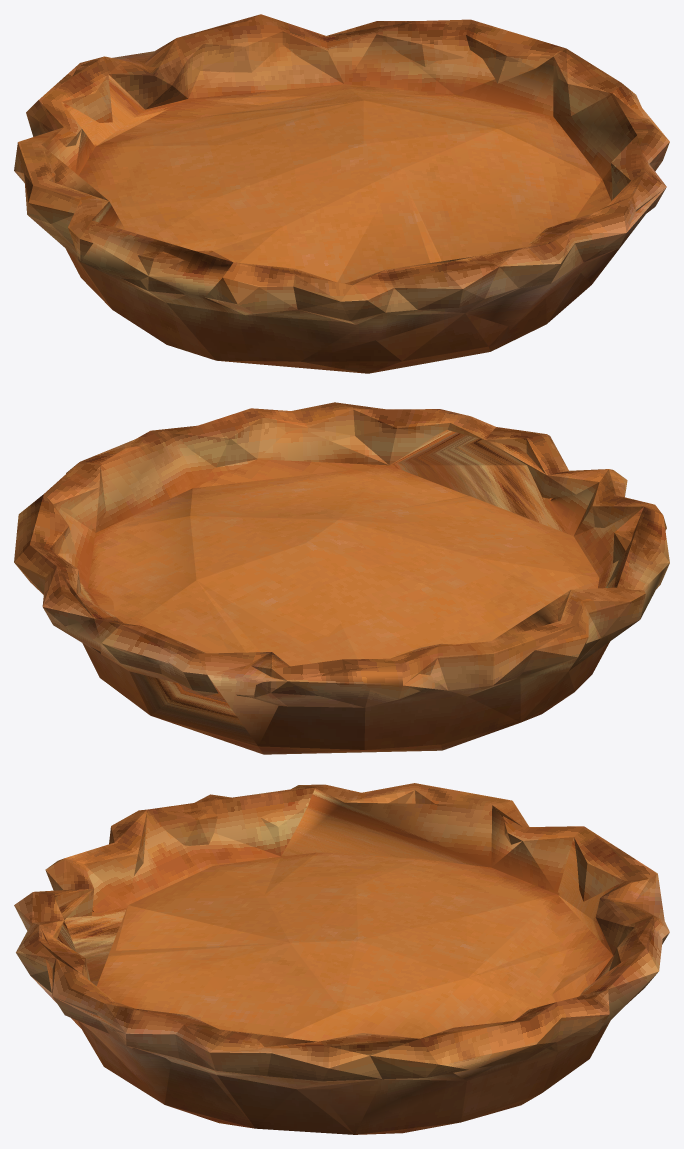
Rendered from item_pumpkin_pie.glb.
3 views of the same model, one above another, from view 1: azimuth 30°, elevation 25°; view 2: azimuth 150°, elevation 25°; view 3: azimuth 270°, elevation 25° (orthographic).
Parts seen in each view (by area): view 1: pumpkinpie; view 2: pumpkinpie; view 3: pumpkinpie.
Part boxes in pixels (x1,y1,x2,y2): pumpkinpie: (14, 14, 669, 373); pumpkinpie: (14, 402, 669, 754); pumpkinpie: (14, 783, 669, 1134).
Bounding box in the file's own units: 0.3541 × 0.0797 × 0.3544.
1 material, 1 textured.
